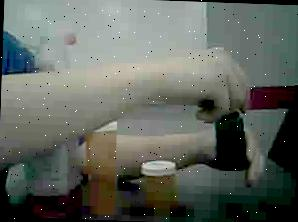Bottle A: (82, 118, 122, 221)
Bottle B: (136, 157, 185, 220)
Bottle C: (206, 99, 250, 174)
hazard: (28, 30, 90, 220)
